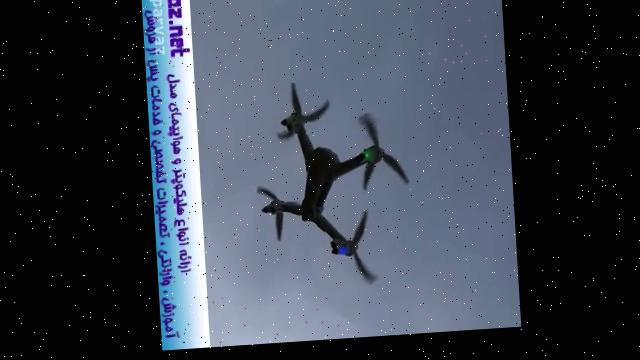drone: (247, 75, 413, 297)
